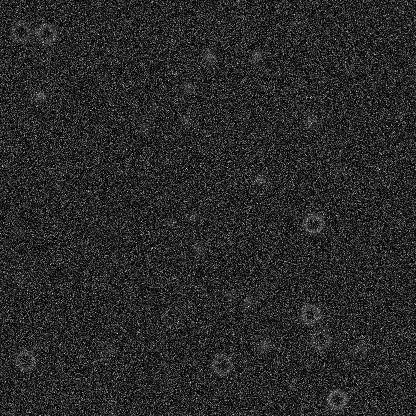Ring: (34, 21, 58, 45), (95, 336, 119, 360), (209, 352, 233, 376), (324, 387, 348, 411), (308, 327, 332, 351), (298, 302, 322, 326), (12, 348, 36, 372), (301, 211, 325, 235), (8, 19, 32, 43), (158, 305, 182, 329)
Spot: (32, 87, 48, 103), (256, 338, 272, 354), (178, 112, 194, 128), (161, 215, 177, 231), (190, 241, 206, 257), (351, 339, 367, 355), (183, 208, 199, 224), (75, 237, 91, 253), (179, 78, 195, 94), (248, 47, 264, 63), (11, 272, 27, 288), (201, 48, 217, 64), (302, 113, 318, 129), (251, 171, 267, 187), (239, 295, 255, 311), (221, 287, 237, 303), (136, 119, 152, 135)
